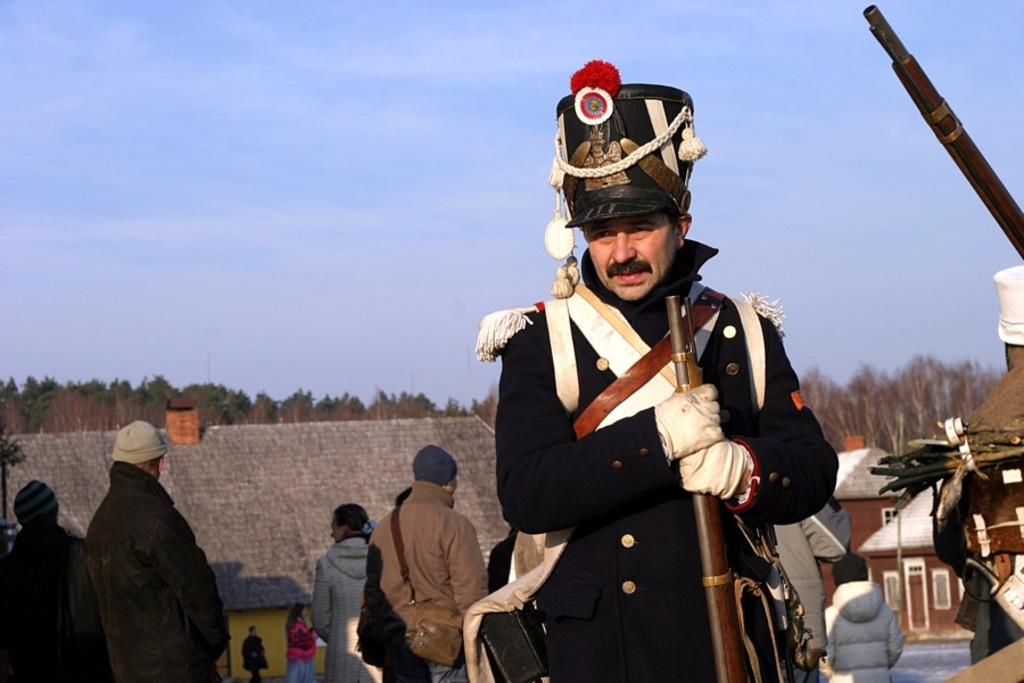non-violence: (479, 79, 842, 683), (84, 420, 227, 683), (371, 446, 494, 680), (5, 482, 86, 682), (315, 500, 390, 682), (830, 558, 903, 677), (280, 597, 321, 683), (242, 620, 274, 683)
weapon: (860, 3, 1023, 261), (663, 294, 752, 682), (960, 553, 1023, 634)
